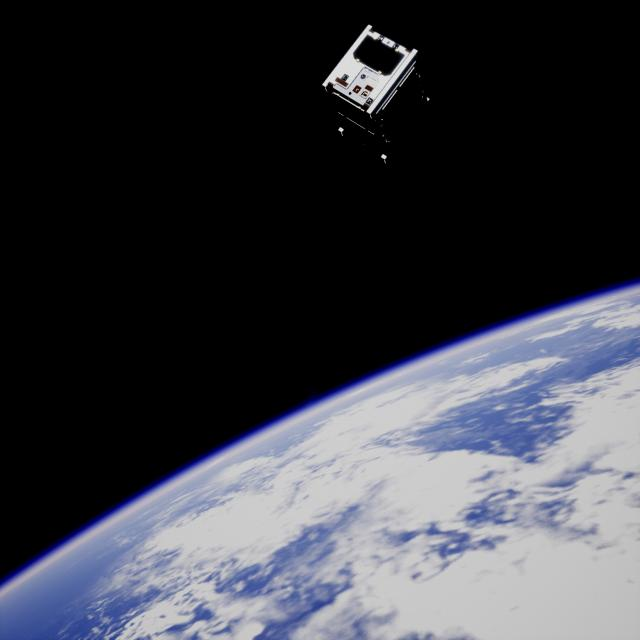satellite: (320, 22, 433, 178)
